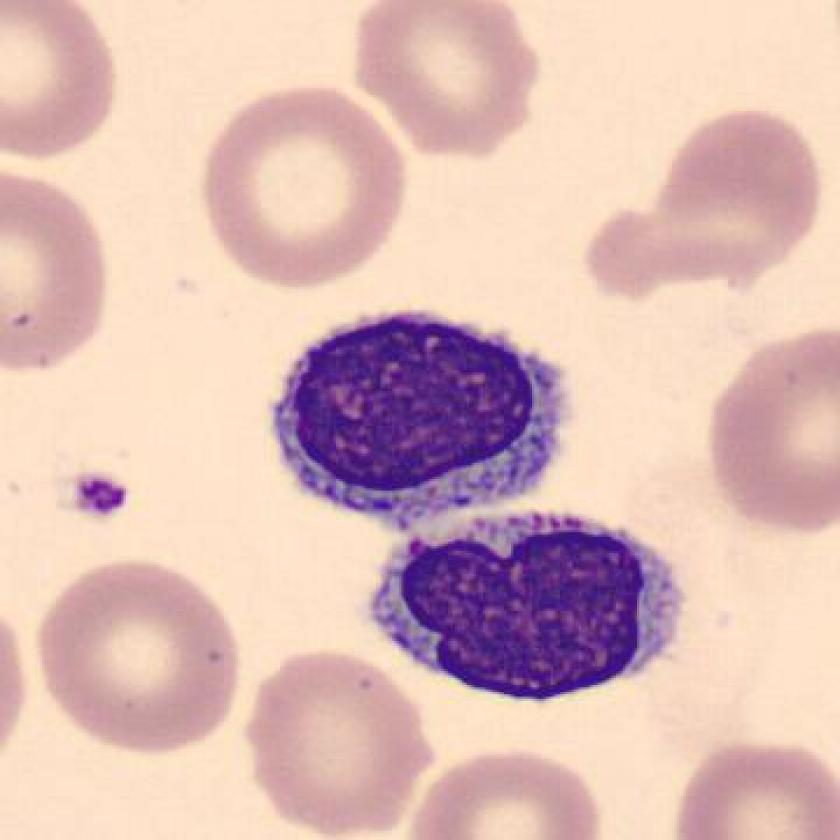lymphocyte: (258, 295, 584, 531)
monocyte: (352, 516, 696, 706)
